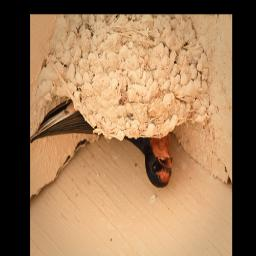Swallow: (31, 89, 174, 191)
